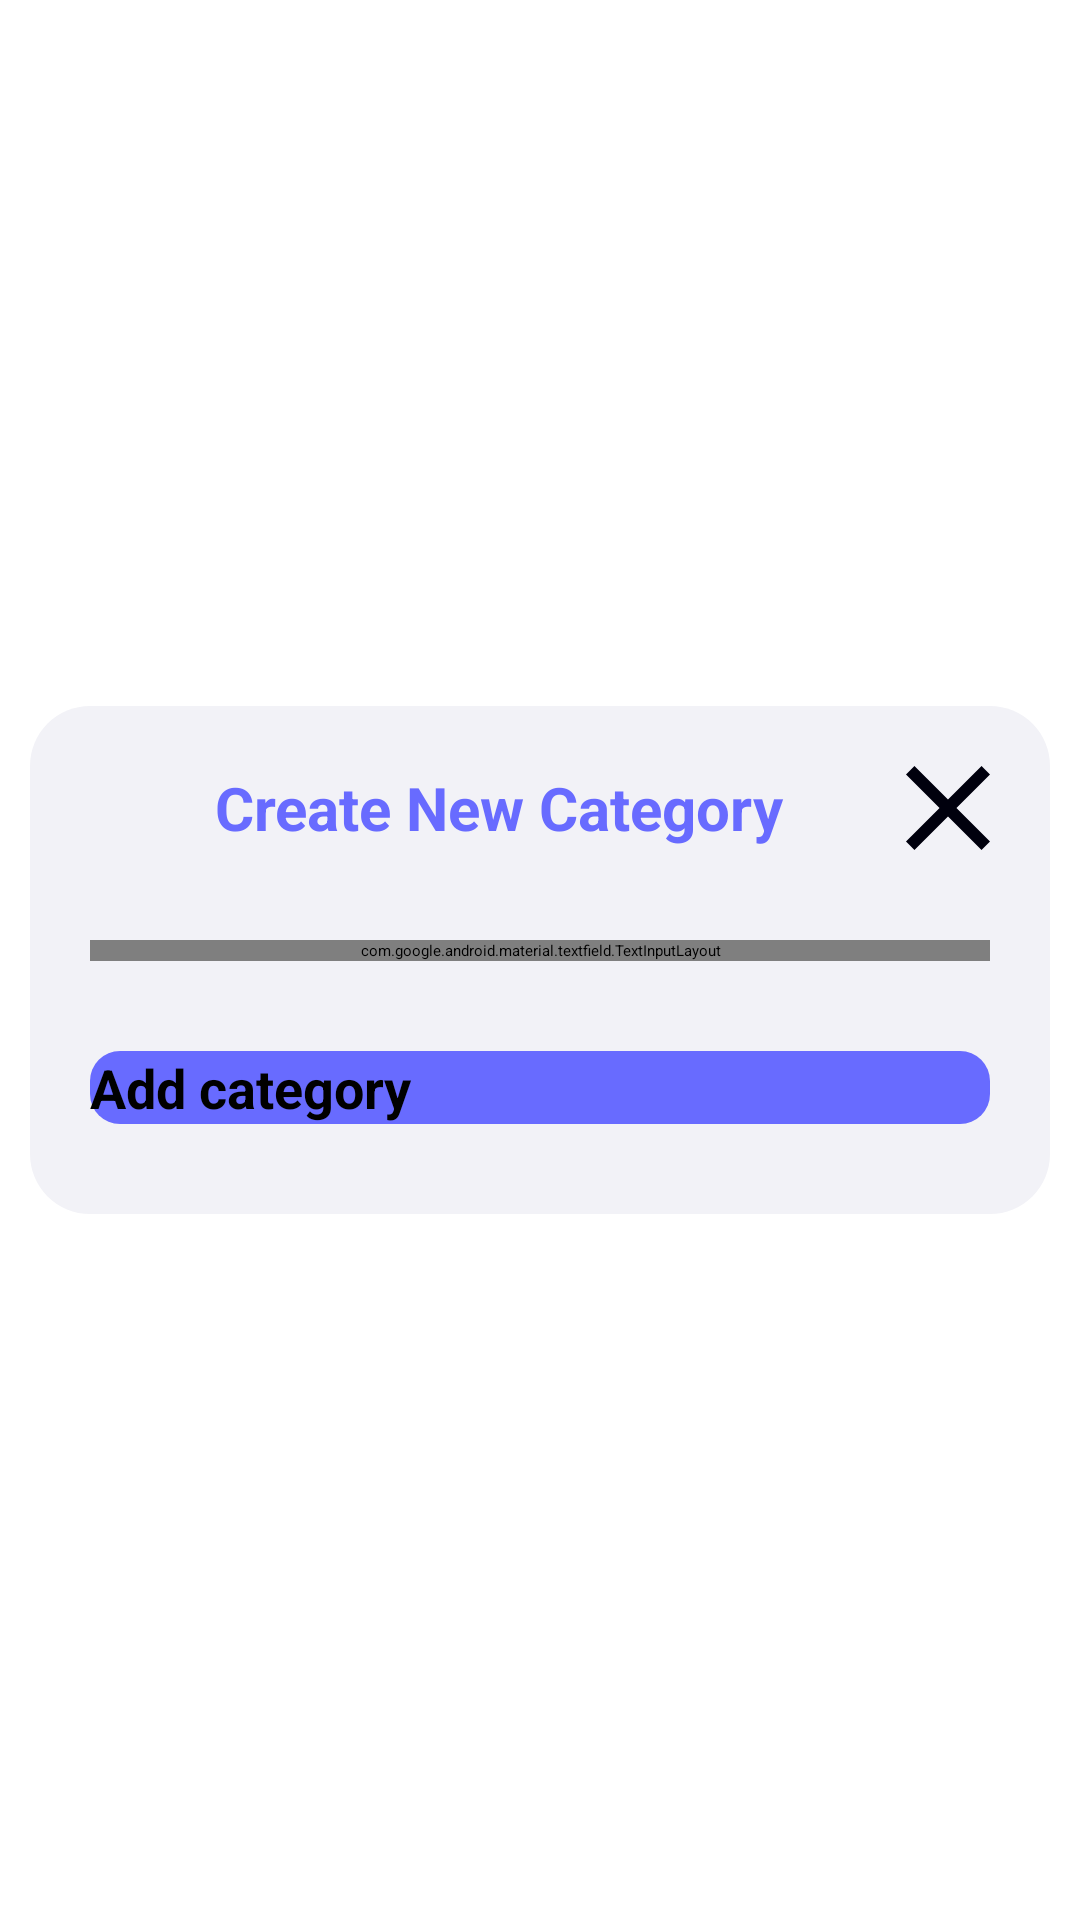

Locate icon controls on the screen. Image size 1080w x 1920h, boxes as (x1, y1, x2, y2).
close: (906, 766, 990, 850)
